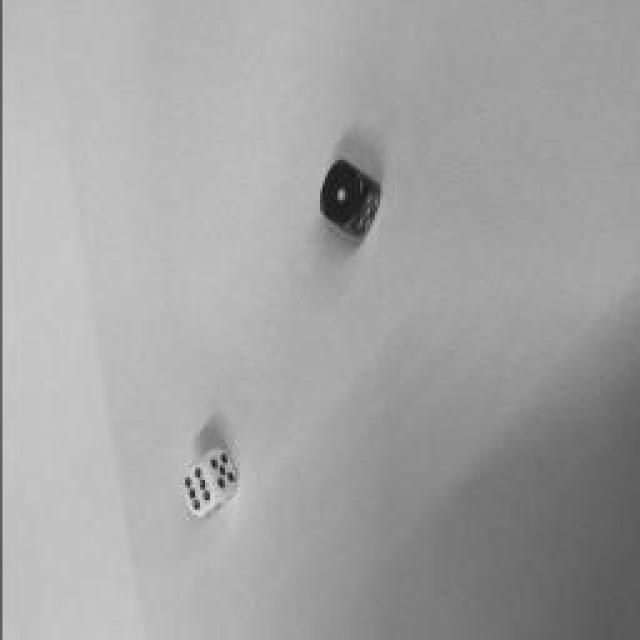dice_1: (318, 160, 368, 228)
dice_6: (181, 462, 214, 518)
